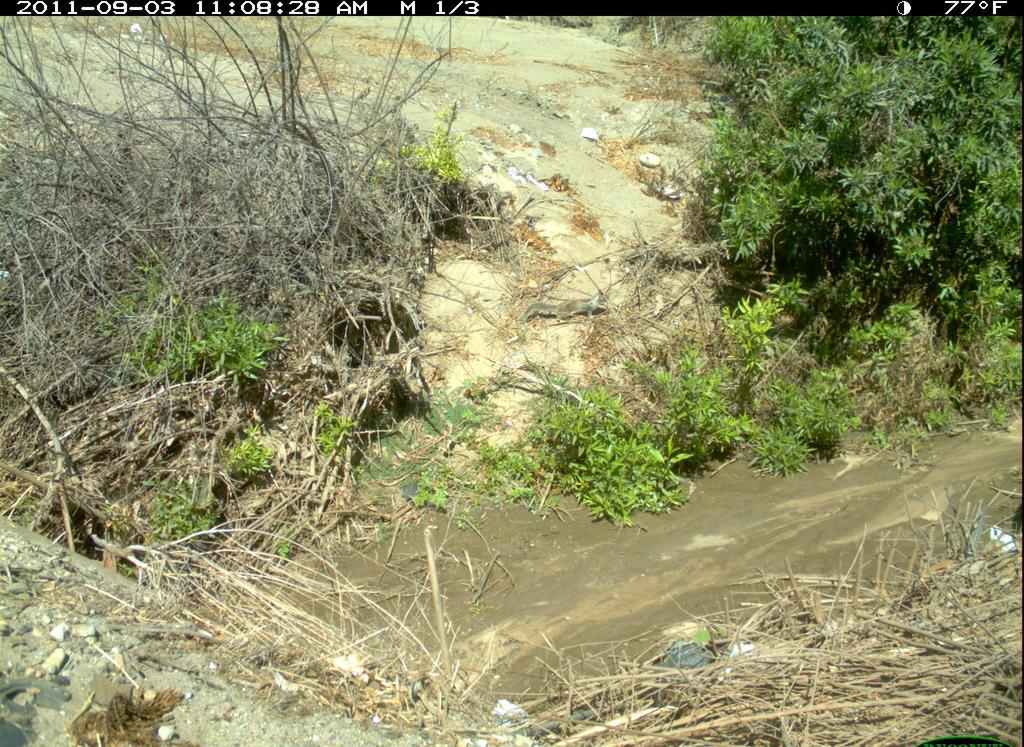squirrel: (514, 281, 621, 338)
